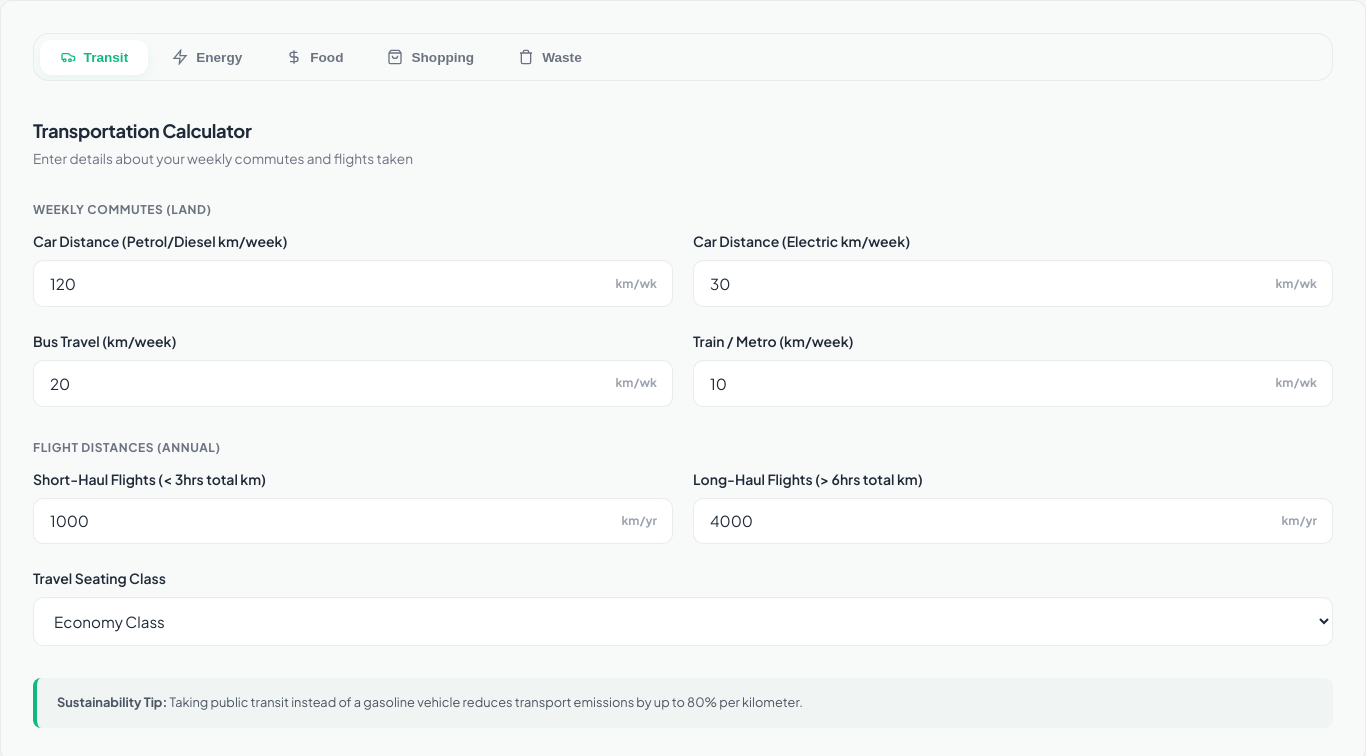
Test: Calculator component › switches to Waste tab on click
The image size is (1366, 756).
What coordinates should you click on to do the following:
click the button with aria-label "Switch to Waste tab"
I would click on:
 (550, 57)
Its box is [498,40,602,75].
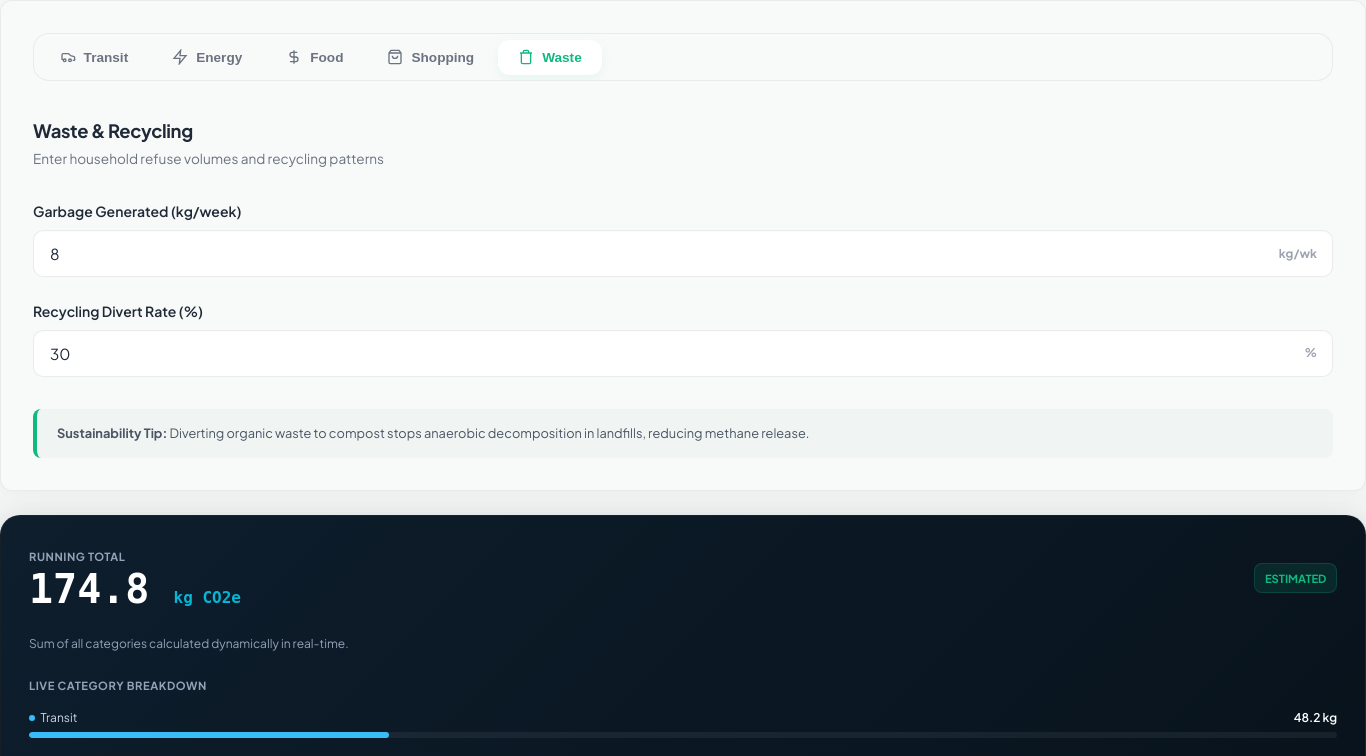
Check: the heading "Waste & Recycling" is shown, box [33,119,193,142]
